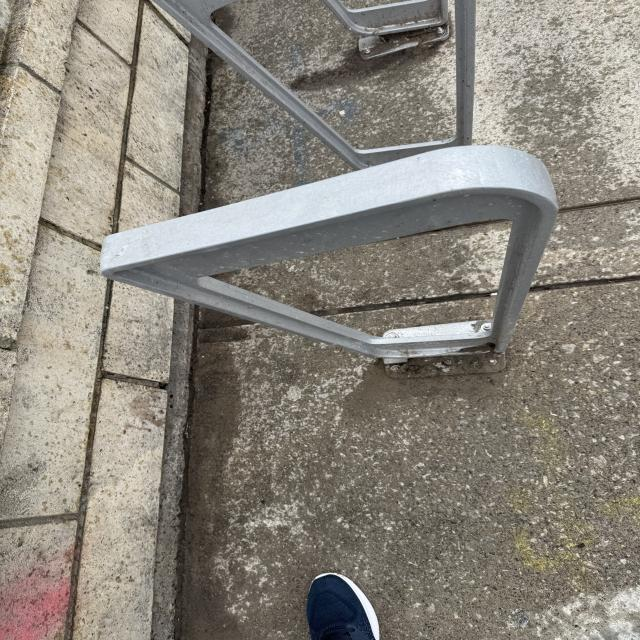Bicycle Rack: (92, 153, 558, 362), (143, 0, 481, 176)
